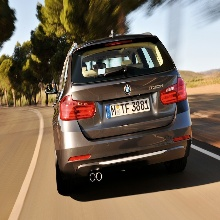no damage: (49, 33, 194, 193)
